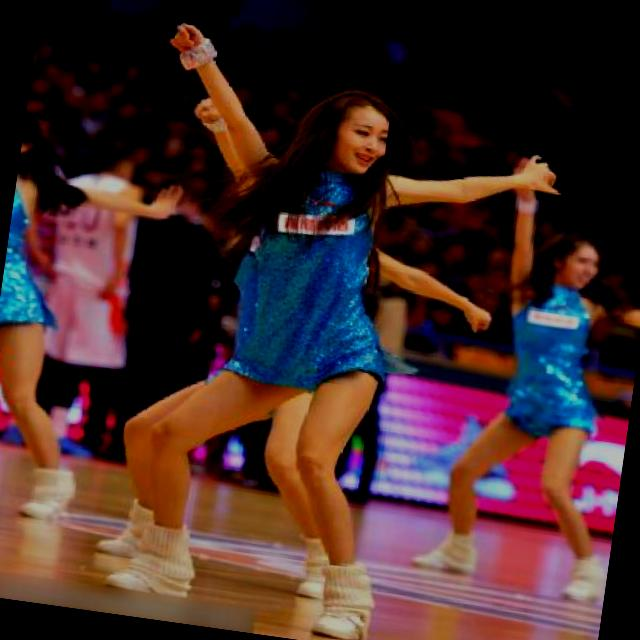Person: (144, 50, 446, 630)
